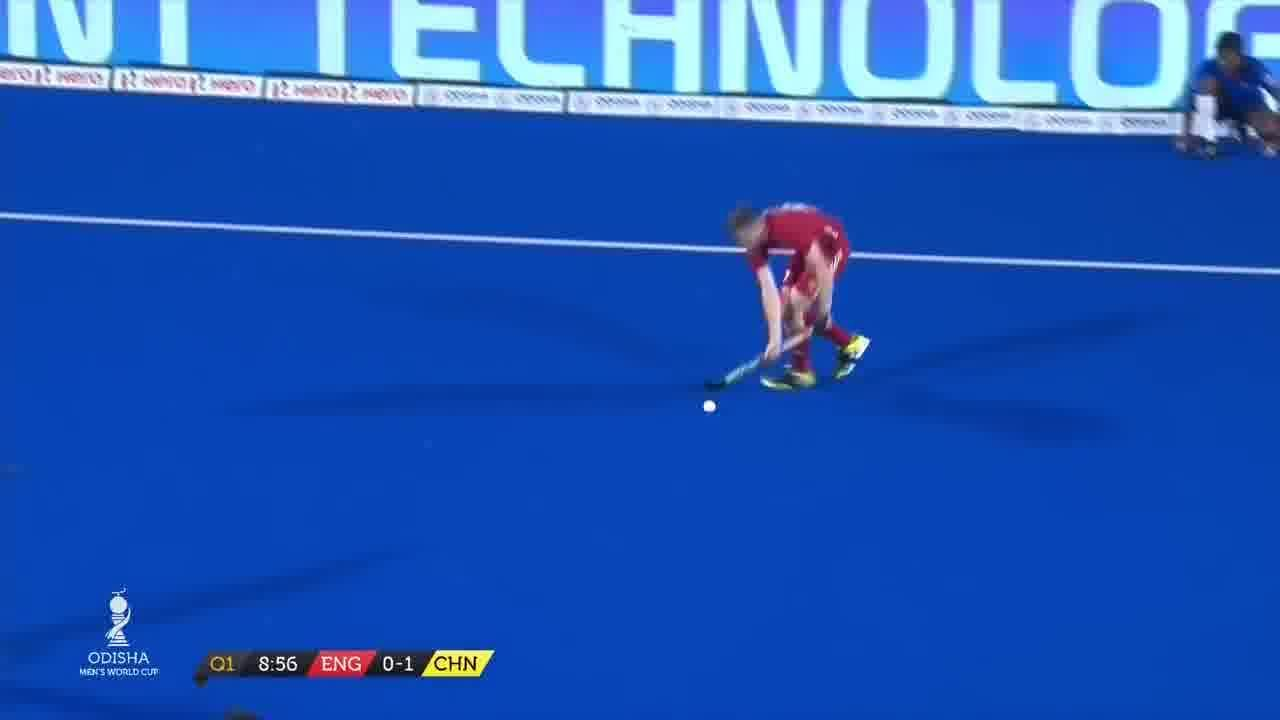ball: (700, 389, 725, 421)
